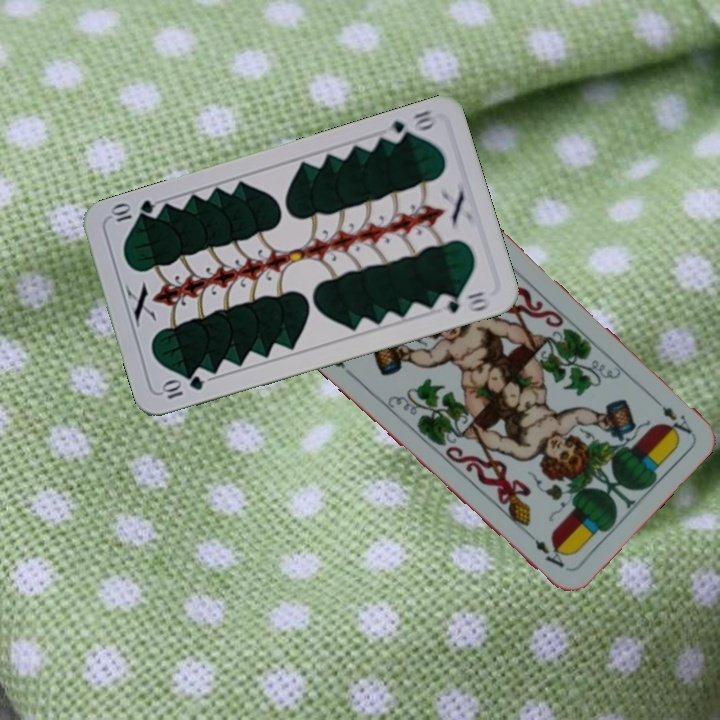EA: (647, 391, 695, 440)
G10: (380, 106, 440, 145), (158, 372, 207, 402)
